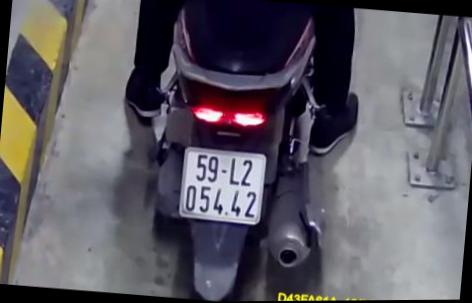LP: (176, 143, 268, 227)
